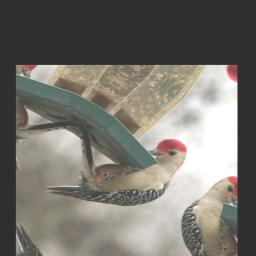Woodpecker: (38, 102, 199, 243)
